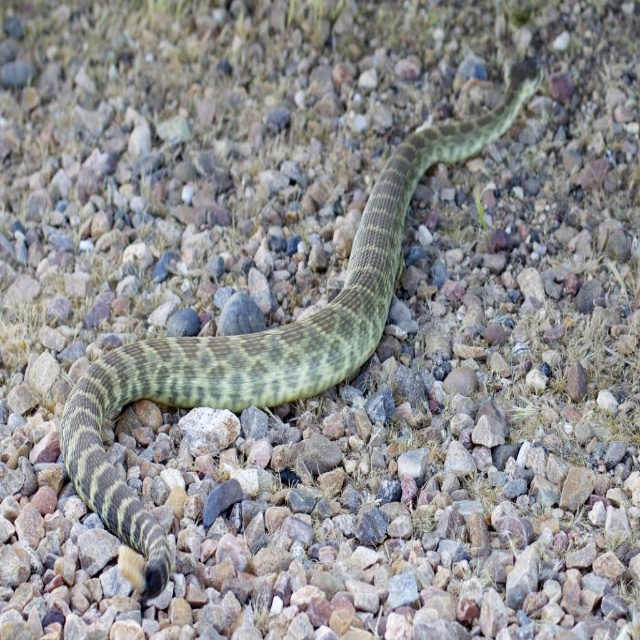Snake: (59, 59, 544, 594)
